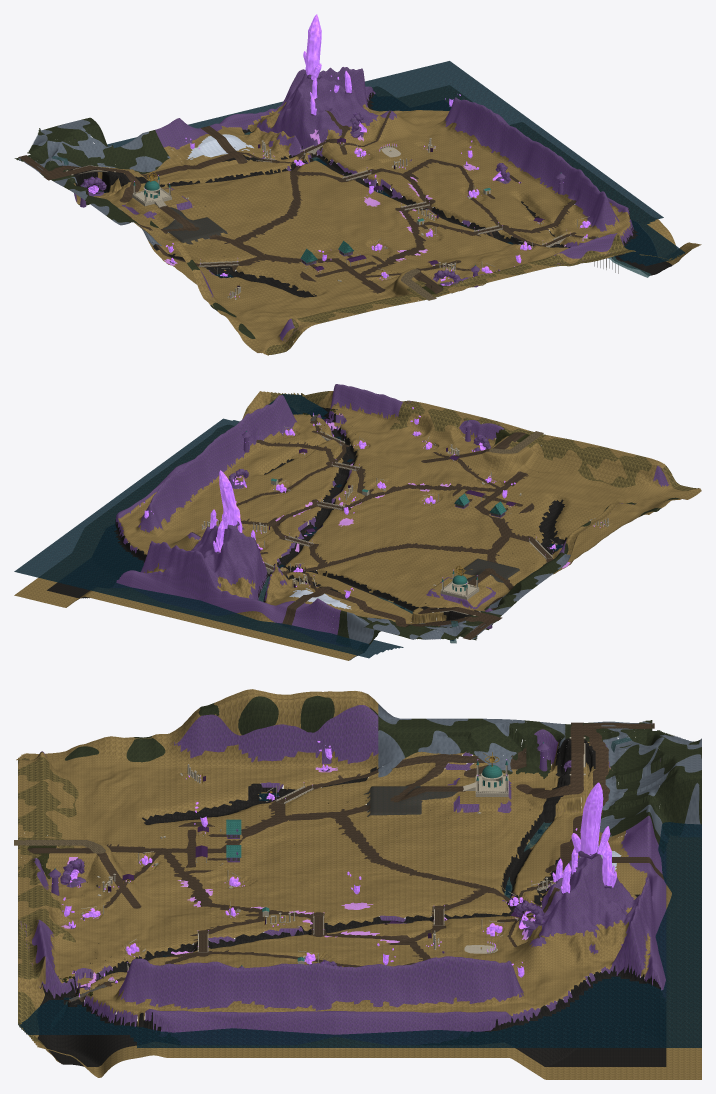
File: world-lod2.glb
3 views of the same model, one above another, from view 1: azimuth 30°, elevation 25°; view 2: azimuth 150°, elevation 25°; view 3: azimuth 270°, elevation 25° (orthographic). The views are drawn at different scales.
Parts seen in each view (by area): view 1: Terrain_Barrens, Terrain_Barrens_StreamCell_amethyst-sunmane, Terrain_StormRock, Terrain_Barrens_StreamCell_mirrorhold-amethyst, Water_OuterApron_amethyst_barrens, Terrain_StormRock_StreamCell_mirrorhold-amethyst, Water_Sea, Terrain_Barrens_StreamCell_whitehorn-amethyst_StreamCell_mir, Terrain_ResonantRoad_StreamCell_amethyst-sunmane, Terrain_ResonantRoad, Terrain_Barrens_StreamCell_whitehorn-amethyst_StreamCell_ame, Terrain_StormRock_StreamCollar_whitehorn-amethyst_Turf_Strea (×2) (+19 smaller); view 2: Terrain_Barrens_StreamCell_amethyst-sunmane, Terrain_Barrens, Terrain_StormRock, Water_OuterApron_amethyst_barrens, Terrain_Barrens_StreamCell_mirrorhold-amethyst, Terrain_StormRock_StreamCell_mirrorhold-amethyst, Terrain_Barrens_StreamCell_whitehorn-amethyst_StreamCell_mir, Terrain_ResonantRoad_StreamCell_amethyst-sunmane, Water_Sea, Terrain_ContinentExtension_amethyst_barrens, Terrain_Barrens_StreamCell_whitehorn-amethyst_StreamCell_ame, Terrain_Shore (+18 smaller); view 3: Terrain_StormRock, Terrain_Barrens_StreamCell_amethyst-sunmane, Terrain_Barrens, Water_OuterApron_amethyst_barrens, Terrain_Barrens_StreamCell_mirrorhold-amethyst, Terrain_Shore, Terrain_ContinentExtension_amethyst_barrens, Terrain_Barrens_StreamCell_whitehorn-amethyst_StreamCell_mir, Water_Sea, Terrain_ResonantRoad_StreamCell_amethyst-sunmane, Terrain_StormRock_StreamCell_whitehorn-amethyst, Terrain_Barrens_StreamCell_whitehorn-amethyst (+34 smaller).
Boxes of the visible parts, <box> form: Terrain_Barrens: <box>191,98,630,349</box>; Terrain_Barrens_StreamCell_amethyst-sunmane: <box>228,176,521,320</box>; Terrain_StormRock: <box>200,67,633,341</box>; Terrain_Barrens_StreamCell_mirrorhold-amethyst: <box>160,110,366,218</box>; Water_OuterApron_amethyst_barrens: <box>103,61,663,232</box>; Terrain_StormRock_StreamCell_mirrorhold-amethyst: <box>75,89,331,170</box>; Water_Sea: <box>370,84,684,265</box>; Terrain_Barrens_StreamCell_whitehorn-amethyst_StreamCell_mir: <box>74,166,233,238</box>; Terrain_ResonantRoad_StreamCell_amethyst-sunmane: <box>251,185,480,293</box>; Terrain_ResonantRoad: <box>319,110,596,246</box>; Terrain_Barrens_StreamCell_whitehorn-amethyst_StreamCell_ame: <box>170,219,284,272</box>; Terrain_StormRock_StreamCollar_whitehorn-amethyst_Turf_Strea (×2): <box>47,130,163,166</box>; Terrain_Barrens_StreamCell_amethyst-sunmane: <box>283,423,631,563</box>; Terrain_Barrens: <box>118,401,689,591</box>; Terrain_StormRock: <box>116,384,684,607</box>; Water_OuterApron_amethyst_barrens: <box>14,418,403,658</box>; Terrain_Barrens_StreamCell_mirrorhold-amethyst: <box>226,532,445,617</box>; Terrain_StormRock_StreamCell_mirrorhold-amethyst: <box>220,537,340,634</box>; Terrain_Barrens_StreamCell_whitehorn-amethyst_StreamCell_mir: <box>375,563,518,629</box>; Terrain_ResonantRoad_StreamCell_amethyst-sunmane: <box>295,432,534,551</box>; Water_Sea: <box>68,394,562,577</box>; Terrain_ContinentExtension_amethyst_barrens: <box>14,416,244,625</box>; Terrain_Barrens_StreamCell_whitehorn-amethyst_StreamCell_ame: <box>448,527,543,578</box>; Terrain_Shore: <box>47,407,567,598</box>; Terrain_StormRock: <box>19,714,665,1034</box>; Terrain_Barrens_StreamCell_amethyst-sunmane: <box>44,783,402,938</box>; Terrain_Barrens: <box>20,742,650,1026</box>; Water_OuterApron_amethyst_barrens: <box>114,819,701,1047</box>; Terrain_Barrens_StreamCell_mirrorhold-amethyst: <box>402,825,647,917</box>; Terrain_Shore: <box>25,783,666,1066</box>; Terrain_ContinentExtension_amethyst_barrens: <box>52,1045,701,1079</box>; Terrain_Barrens_StreamCell_whitehorn-amethyst_StreamCell_mir: <box>401,736,635,831</box>; Water_Sea: <box>18,793,647,1034</box>; Terrain_ResonantRoad_StreamCell_amethyst-sunmane: <box>27,819,400,937</box>; Terrain_StormRock_StreamCell_whitehorn-amethyst: <box>266,705,378,792</box>; Terrain_Barrens_StreamCell_whitehorn-amethyst: <box>266,751,400,793</box>.
Bounding box in the file's own units: 431 × 128 × 429.
Materials: 33 (33 with a texture image).
